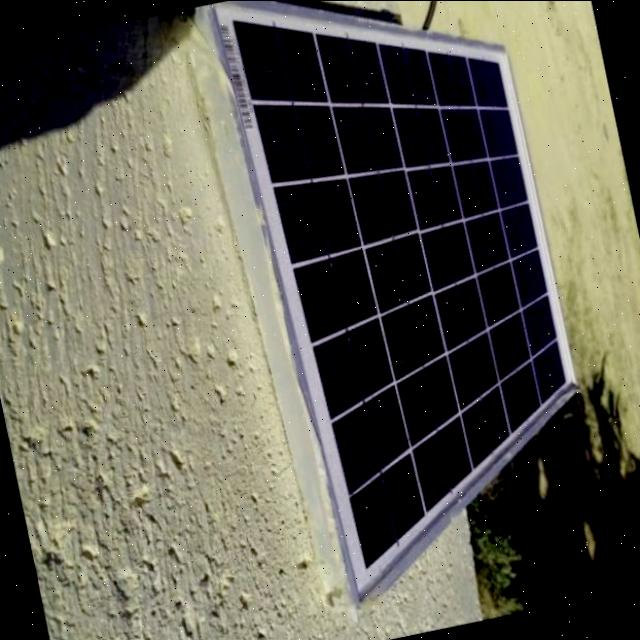Normal Solar Panel: (211, 0, 615, 609)
